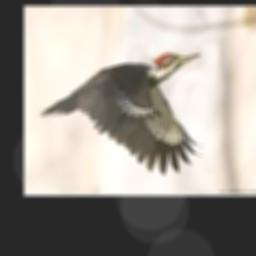Woodpecker: (40, 52, 203, 175)
